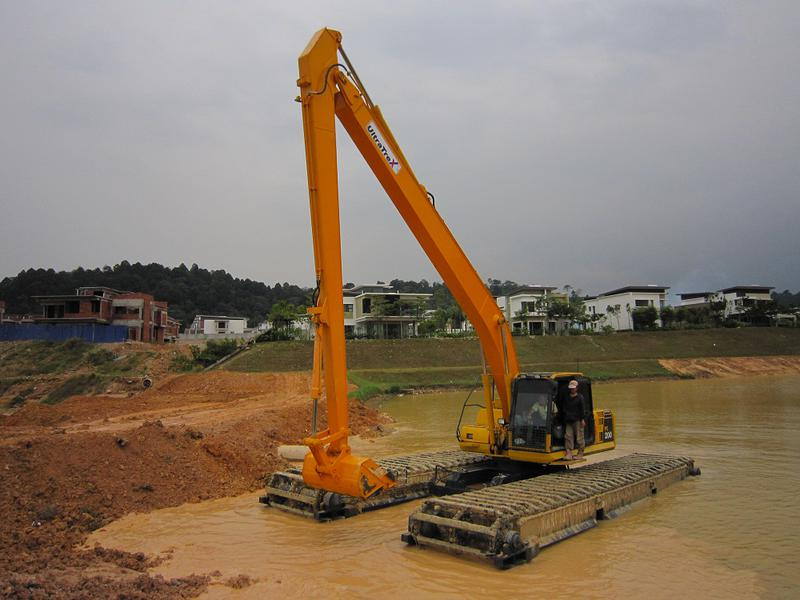shovel: (267, 24, 716, 580)
